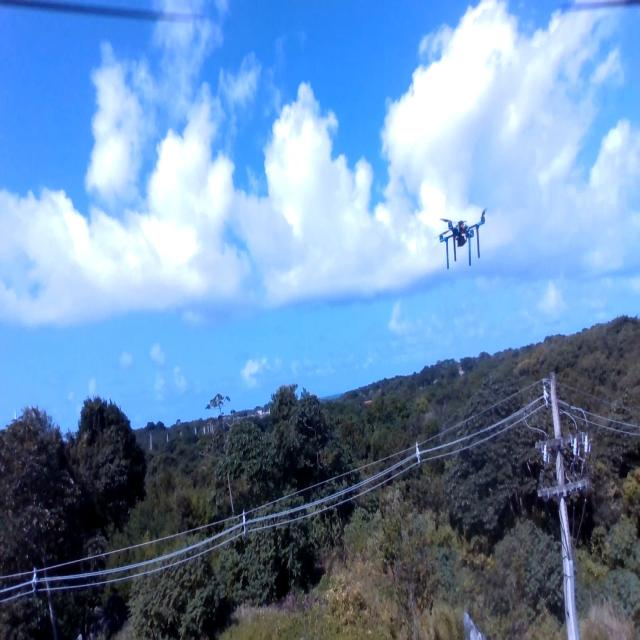-uav-: (428, 196, 494, 280)
